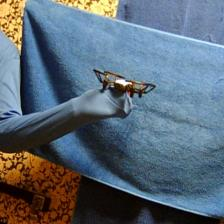drone: (92, 66, 157, 104)
